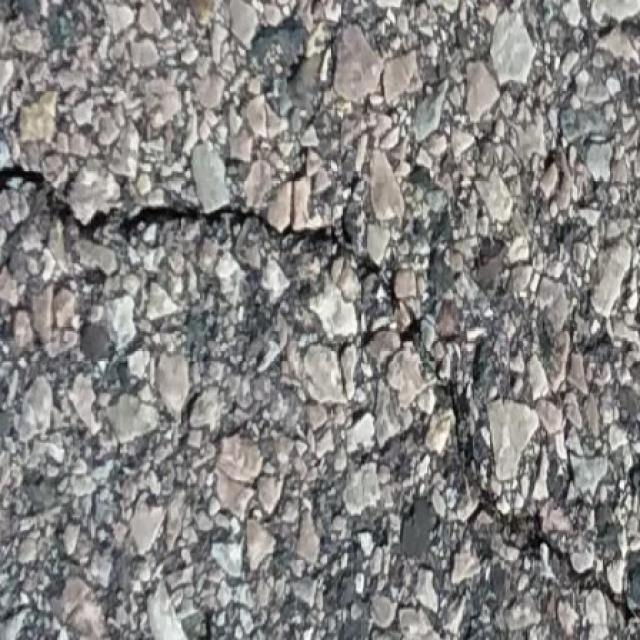Diagonal Crack: (2, 164, 637, 630)
